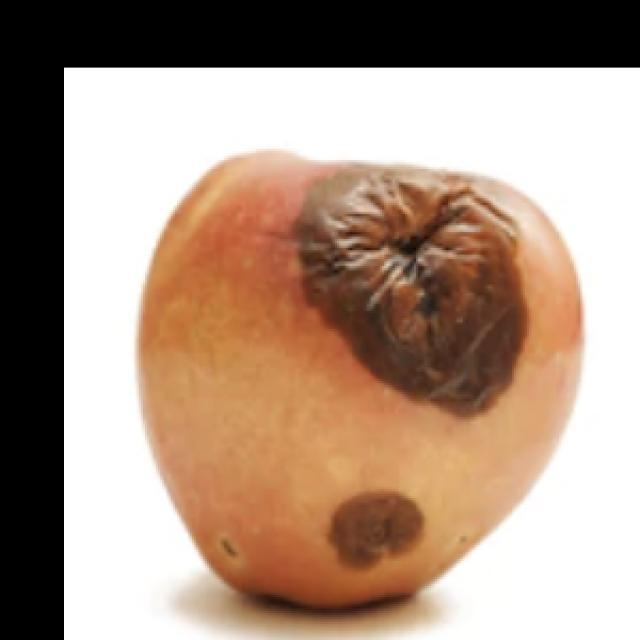Rotten: (146, 131, 573, 640)
